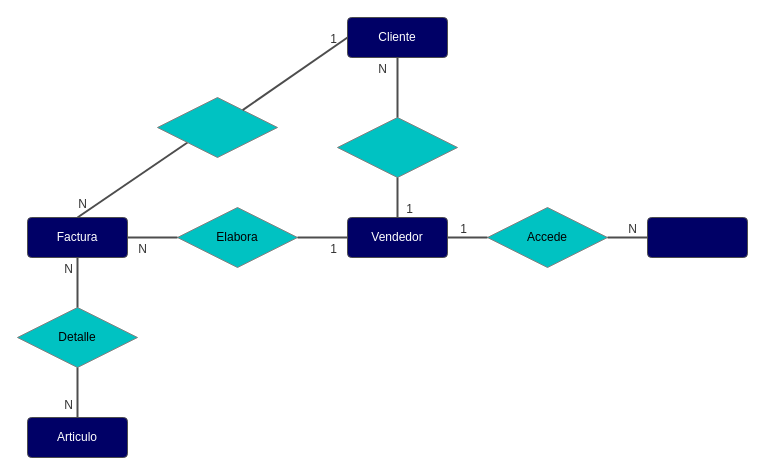
Image size: 765x475. Some labels were removed from this diagram. Here are the shapes that lost their labels. From the top down, the centre of each, then its label:
pixel 217 127: Compra
pixel 397 147: Representa
pixel 697 237: Usuario
